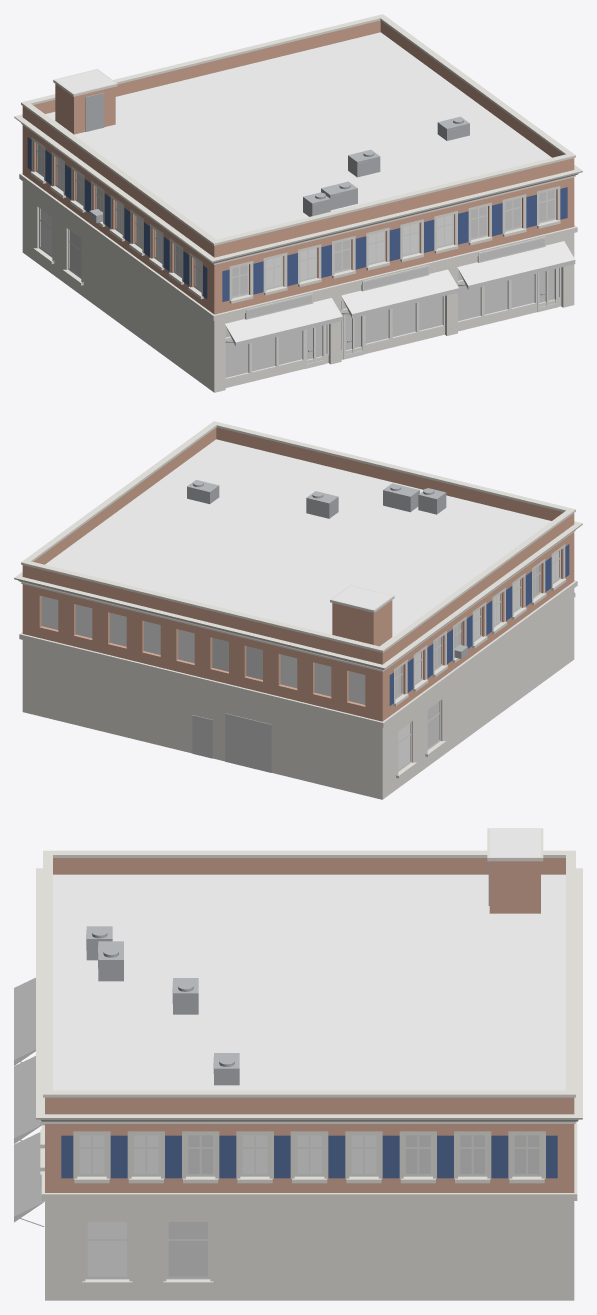
Rendered from midtown_w78f1.glb.
3 views of the same model, one above another, from view 1: azimuth 30°, elevation 25°; view 2: azimuth 150°, elevation 25°; view 3: azimuth 270°, elevation 25° (orthographic). The views are drawn at different scales.
Parts seen in each view (by area): view 1: midtown_w78f1_Roof, midtown_w78f1_Trim, midtown_w78f1_Walls, midtown_w78f1_WindowsLit, midtown_w78f1_Awning, midtown_w78f1_Frames, midtown_w78f1_Accent, midtown_w78f1_Glass, midtown_w78f1_Details, midtown_w78f1_Sign; view 2: midtown_w78f1_Trim, midtown_w78f1_Roof, midtown_w78f1_Walls, midtown_w78f1_Glass, midtown_w78f1_Doors, midtown_w78f1_Details, midtown_w78f1_WindowsLit, midtown_w78f1_Accent, midtown_w78f1_Frames; view 3: midtown_w78f1_Roof, midtown_w78f1_Trim, midtown_w78f1_Walls, midtown_w78f1_Accent, midtown_w78f1_Glass, midtown_w78f1_Frames, midtown_w78f1_WindowsLit, midtown_w78f1_Awning, midtown_w78f1_Details.
Boxes of the visible parts, x1,y1,x2,y2 form: midtown_w78f1_Roof: (45, 32, 551, 239); midtown_w78f1_Trim: (14, 14, 582, 392); midtown_w78f1_Walls: (22, 20, 574, 314); midtown_w78f1_WindowsLit: (37, 144, 554, 377); midtown_w78f1_Awning: (225, 241, 575, 346); midtown_w78f1_Frames: (36, 143, 561, 380); midtown_w78f1_Accent: (27, 137, 567, 301); midtown_w78f1_Glass: (40, 158, 452, 290); midtown_w78f1_Details: (85, 92, 545, 351); midtown_w78f1_Sign: (247, 238, 544, 318); midtown_w78f1_Trim: (14, 421, 582, 799); midtown_w78f1_Roof: (45, 439, 551, 646); midtown_w78f1_Walls: (22, 427, 574, 721); midtown_w78f1_Glass: (41, 551, 559, 769); midtown_w78f1_Doors: (192, 713, 271, 772); midtown_w78f1_Details: (187, 480, 467, 658); midtown_w78f1_WindowsLit: (212, 565, 539, 748); midtown_w78f1_Accent: (389, 544, 569, 705); midtown_w78f1_Frames: (395, 550, 560, 771); midtown_w78f1_Roof: (53, 829, 565, 1090); midtown_w78f1_Trim: (36, 828, 582, 1300); midtown_w78f1_Walls: (45, 858, 574, 1192); midtown_w78f1_Accent: (61, 1135, 557, 1178); midtown_w78f1_Glass: (79, 1135, 376, 1276); midtown_w78f1_Frames: (40, 1129, 541, 1279); midtown_w78f1_WindowsLit: (168, 1135, 539, 1276); midtown_w78f1_Awning: (14, 977, 44, 1222); midtown_w78f1_Details: (20, 861, 489, 1226).
Size of the model in its own units: 80.5 by 36.54 by 77.4.
